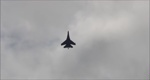maybay_muctieu: (60, 28, 77, 53)
